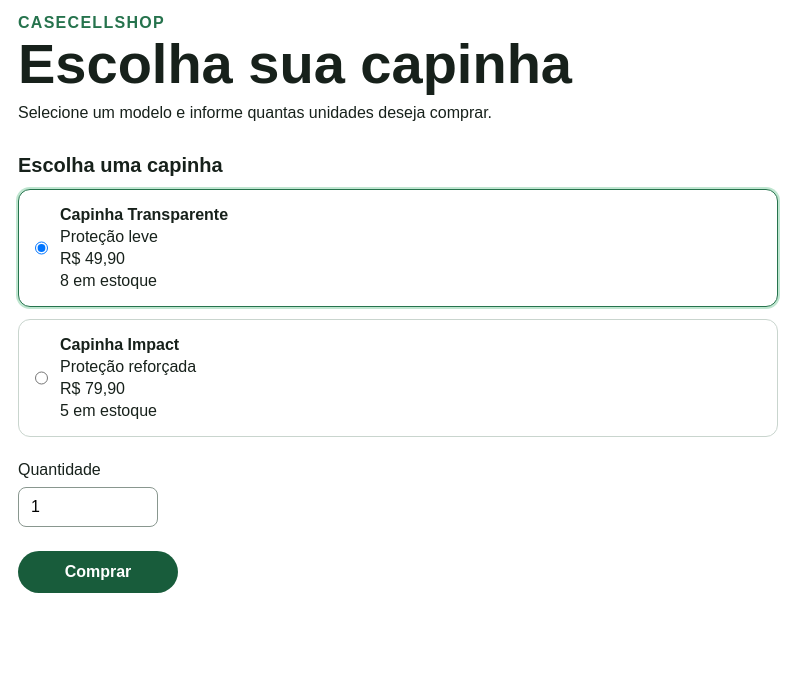
Test: CheckoutPage › resubmits the same payload and key after transport
The image size is (797, 694).
Click the radio button labelled "Capinha Impact Proteção reforçada R$ 79,90 5 em estoque": click(42, 378) [35, 336, 48, 420]
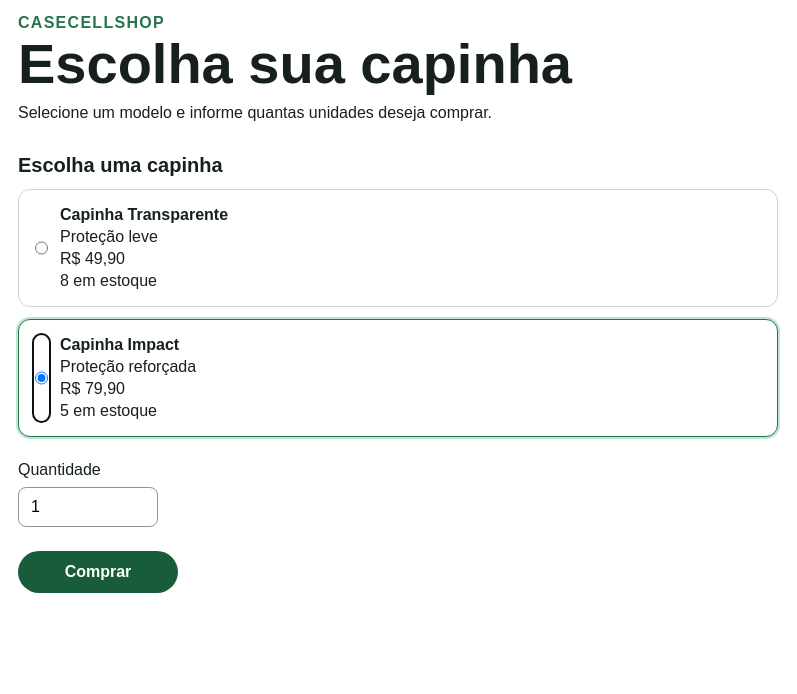
Replace the text in the number field labelled "Quantidade" with "2": (88, 507) [18, 487, 158, 527]
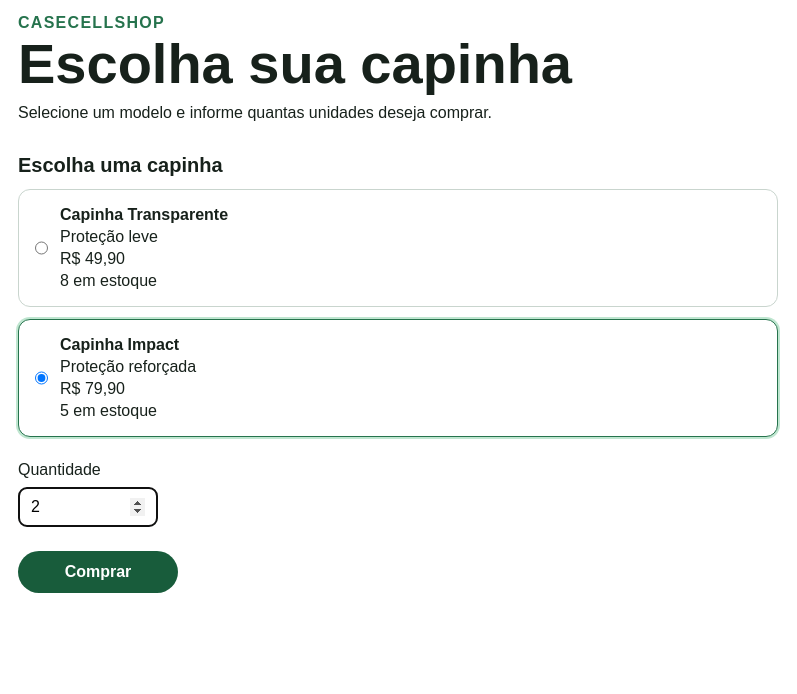
Click the button "Comprar": click(98, 572) [18, 551, 178, 593]
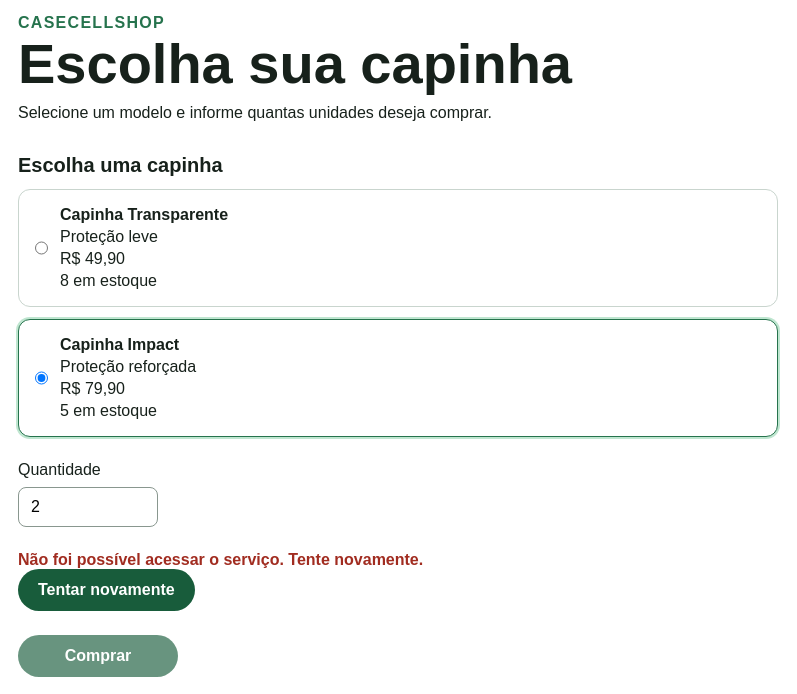
Result: the button "Comprar" is disabled at [18, 635, 178, 677]
Submit the form named "Comprar"
Click the button "Tentar novamente": click(106, 590) [18, 569, 195, 611]
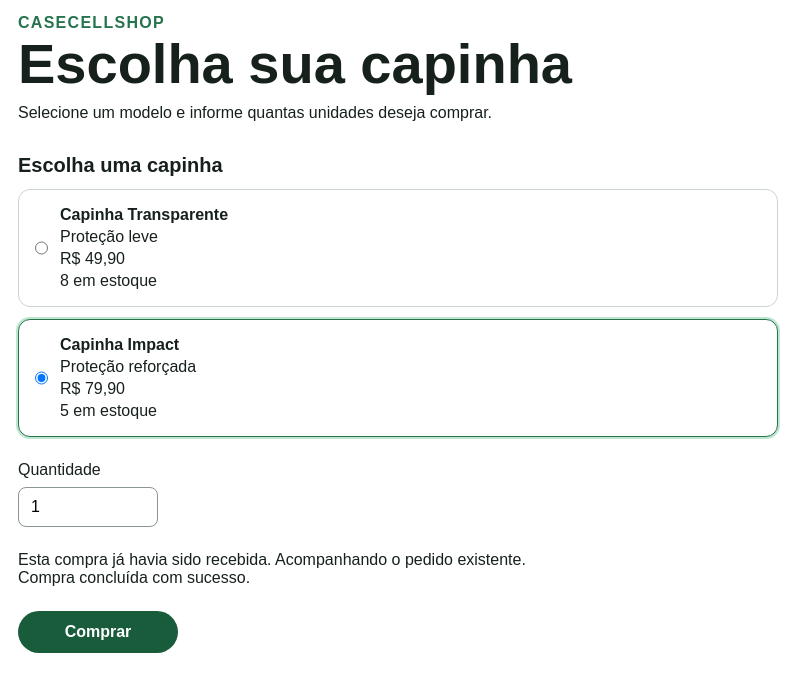
Result: the text "compra já havia sido recebida" is shown at [18, 551, 526, 568]
